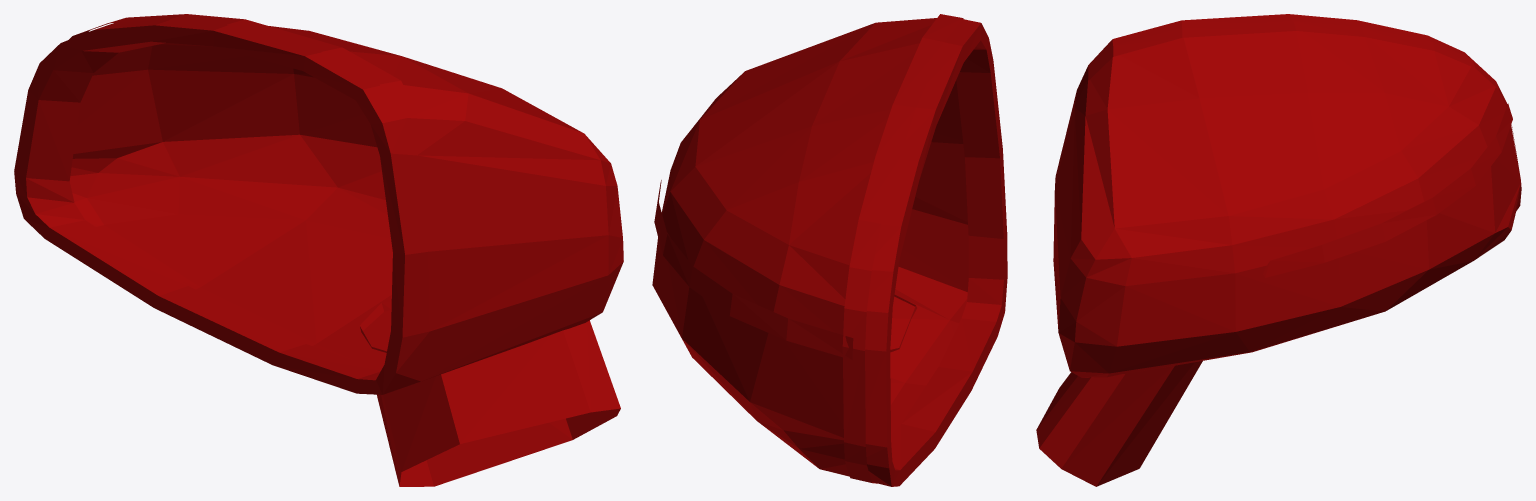
The model's file is sidem.002.dae.
3 renders of one model, left to right at view 1: azimuth 30°, elevation 25°; view 2: azimuth 150°, elevation 25°; view 3: azimuth 270°, elevation 25°, orthographic. The views are drawn at different scales.
Visible parts, largest first — view 1: sidem; view 2: sidem; view 3: sidem.
Part boxes in pixels (<box>): sidem: <box>14,14,623,486</box>; sidem: <box>652,14,1007,486</box>; sidem: <box>1036,14,1521,486</box>.
Bounding box in the file's own units: 19.79 × 23.72 × 21.63.
